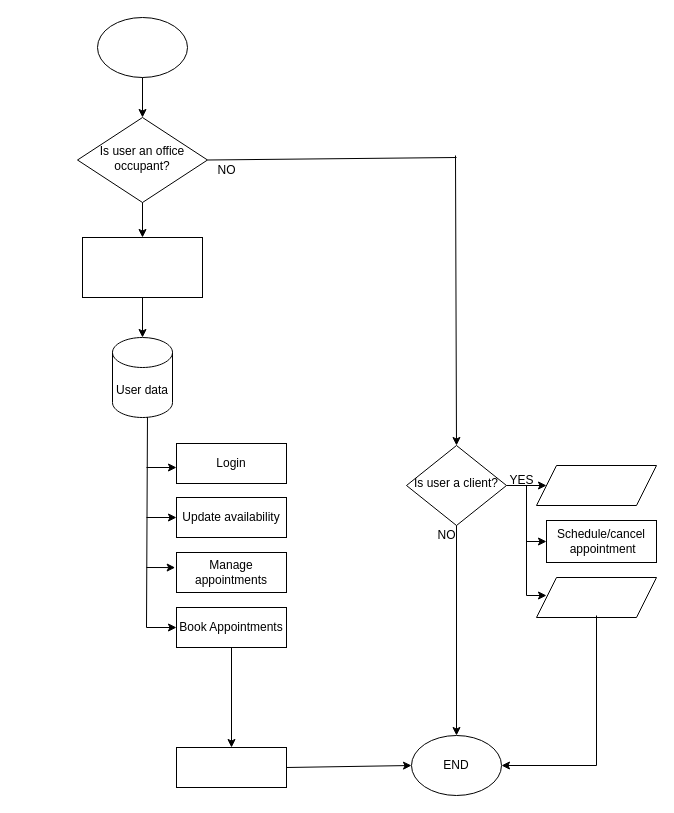
The diagram is 674 pixels wide and 813 high, and some of its shapes have lost their labels. Here are the shapes that lost their labels. From the top down, the box of each, then its label:
(96, 16, 188, 78): START
(82, 236, 202, 298): Authentication
(536, 464, 656, 506): View occupant's current availability
(536, 576, 656, 618): Receive notifications
(176, 746, 286, 788): Logout
